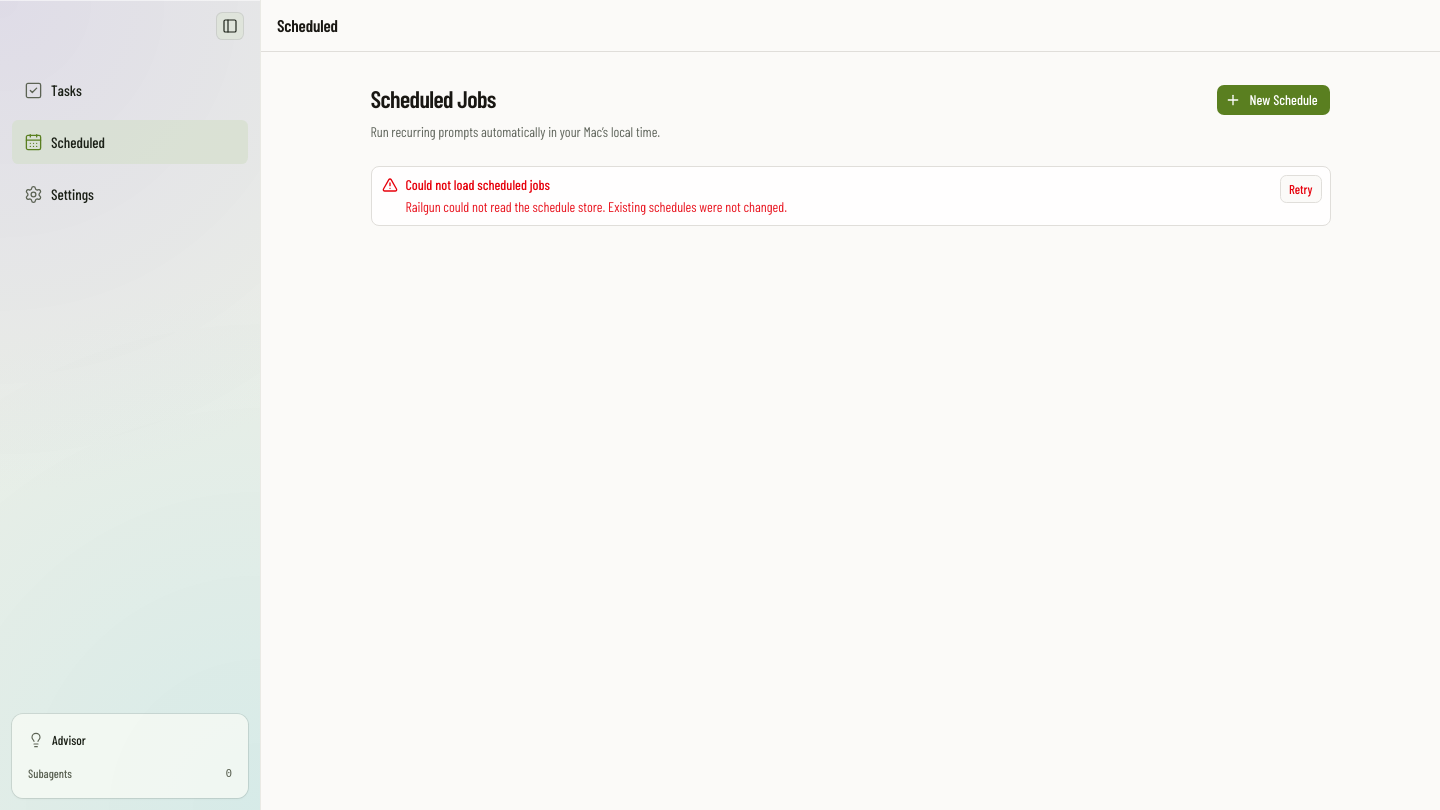
Scheduled route › retries an independent job-list failure
Check: the text "Could not load scheduled jobs" is shown, box x1=406 y1=176 x2=550 y2=193
Click the button "Retry". click: (1301, 189)
box: x1=1280 y1=175 x2=1322 y2=203
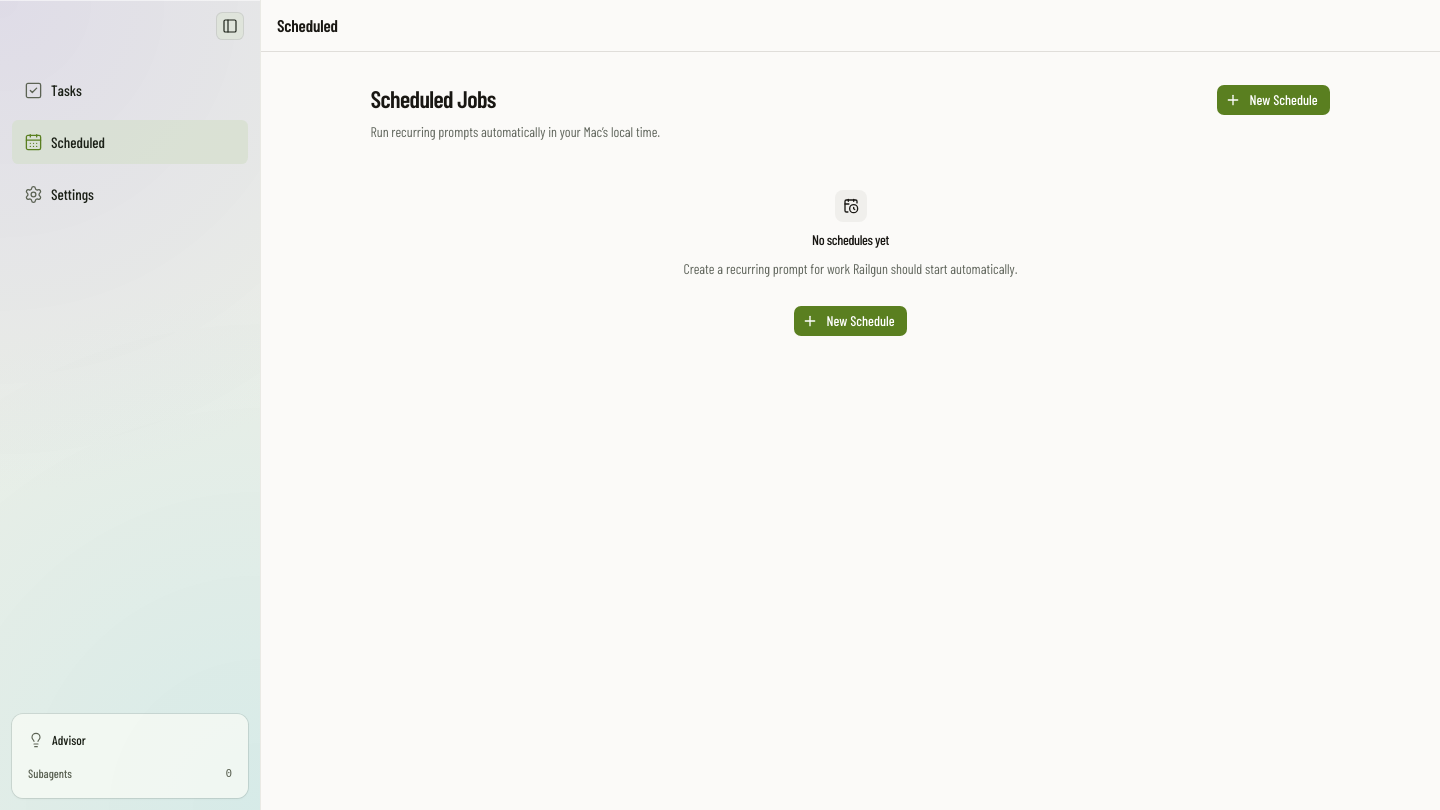
Check: the text "No schedules yet" is shown, box x1=812 y1=230 x2=889 y2=250
